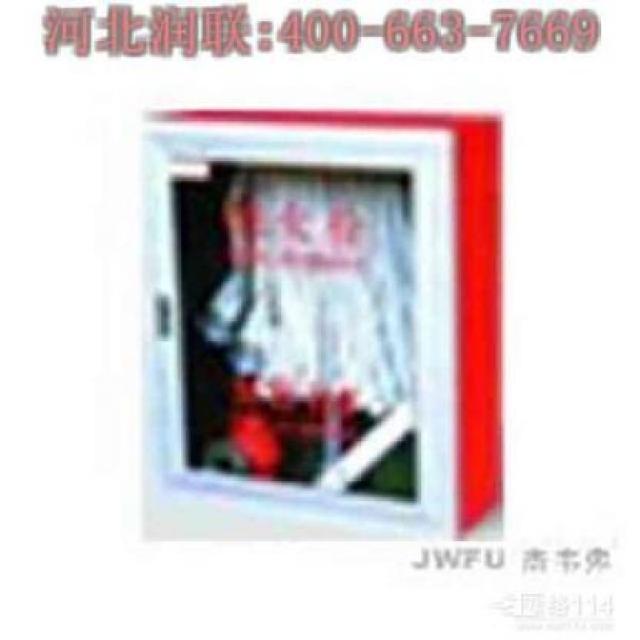firehydrant: (131, 101, 503, 544)
